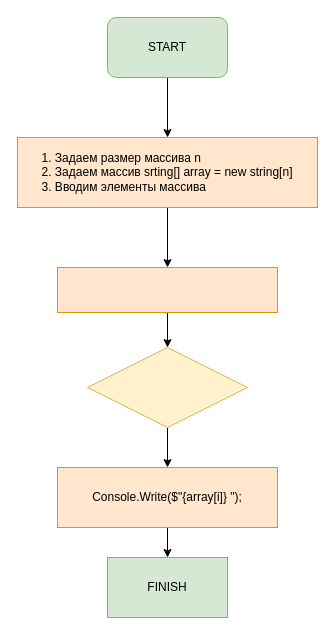
Some shapes in this 335 by 635 pixel diagram are drawn without their labels. The centre of each missing label's shape, as x and y in pixels:
"for (int i = 0; i < array.Length; i++)" belongs at point 167,289.
"if(array[i].Length <= 3)" belongs at point 167,387.
